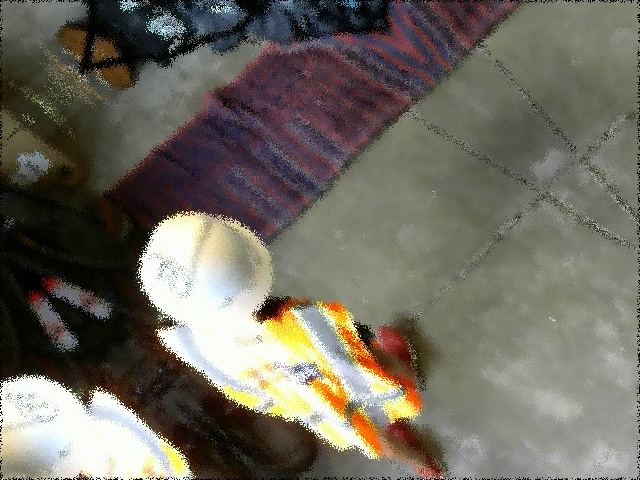eight: (136, 248, 199, 302)
